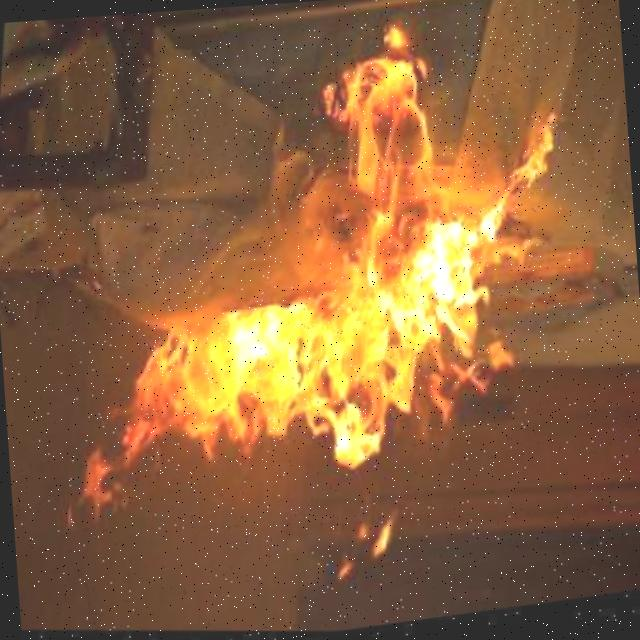fire: (27, 0, 606, 608)
